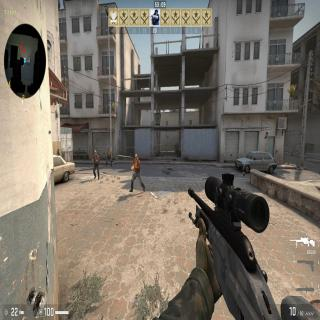T-Body: (129, 153, 145, 192), (92, 150, 100, 180), (106, 148, 112, 166)
T-Head: (134, 154, 138, 160), (94, 150, 97, 154), (108, 148, 110, 151)
